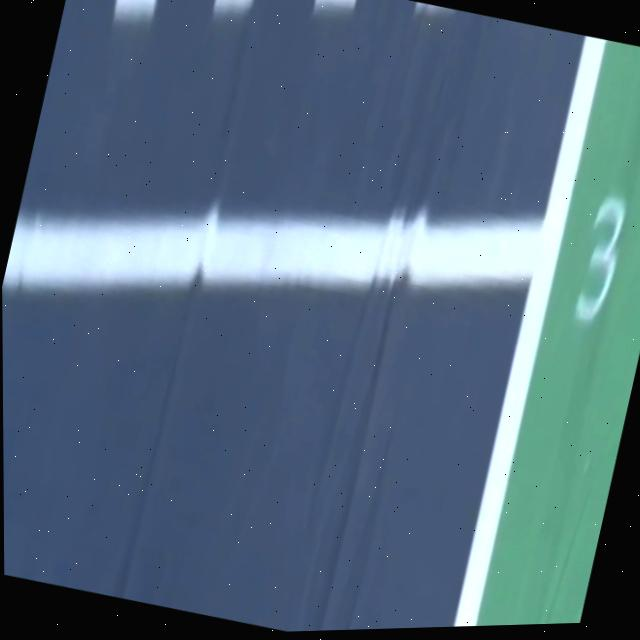right: (452, 35, 606, 627)
